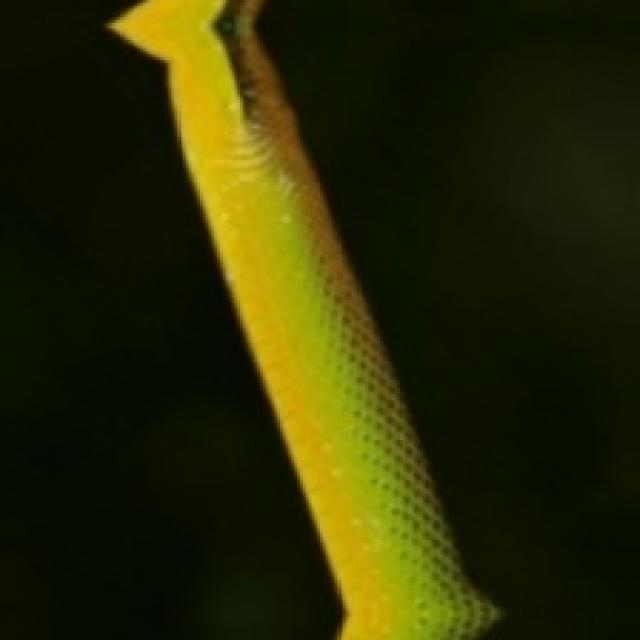red-tailed green ratsnake: (111, 0, 497, 637)
